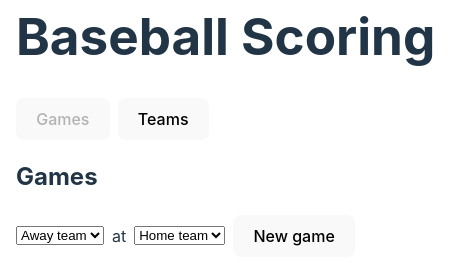
Test: baseball scoring workflows › navigates between games and teams
Expected: the heading "Games" is shown, x1=16 y1=162 x2=98 y2=192
Click the button "Teams". click: (163, 119)
box: x1=118 y1=98 x2=209 y2=140
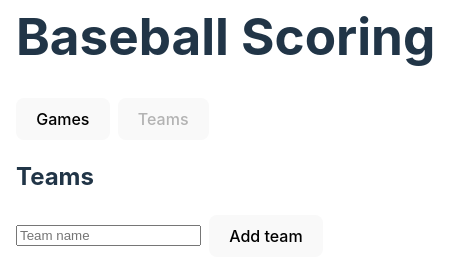
Now the heading "Teams" is shown, box x1=16 y1=162 x2=94 y2=192
